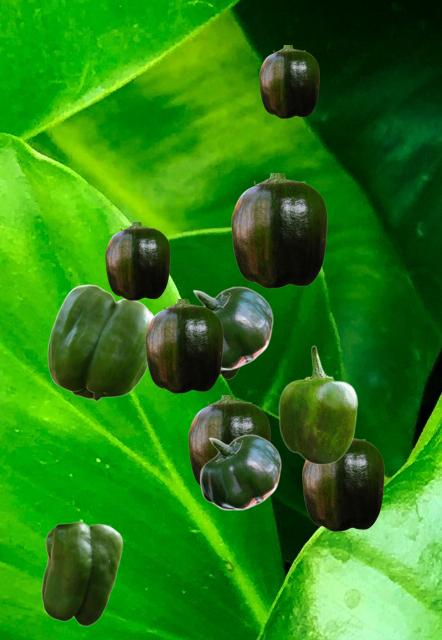bell_pepper: (47, 284, 153, 400), (231, 173, 326, 287), (278, 345, 357, 464), (41, 521, 122, 625), (302, 438, 383, 530), (188, 395, 269, 486), (145, 299, 222, 392), (192, 286, 272, 369), (199, 434, 280, 509), (105, 222, 169, 299), (259, 45, 318, 117), (220, 368, 240, 378)
